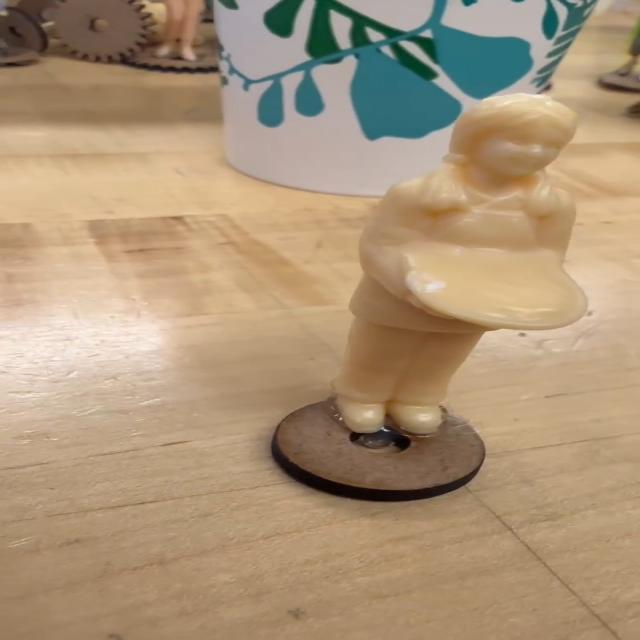Unauthorized: (275, 97, 640, 471)
